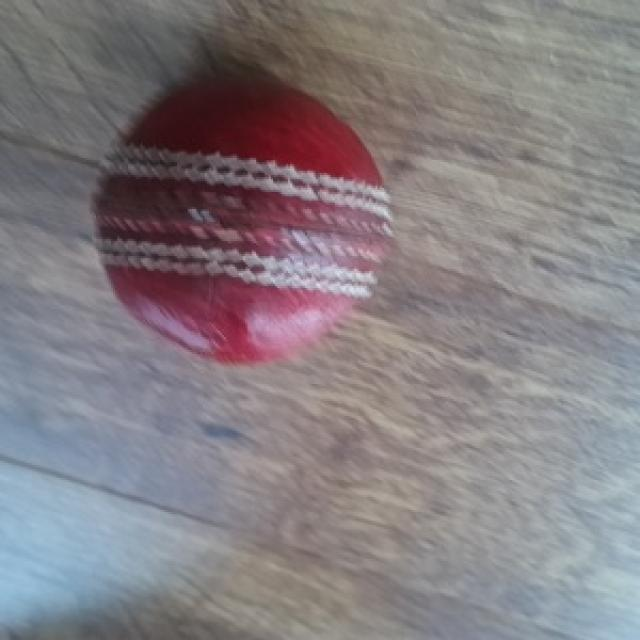ball: (91, 70, 398, 358)
